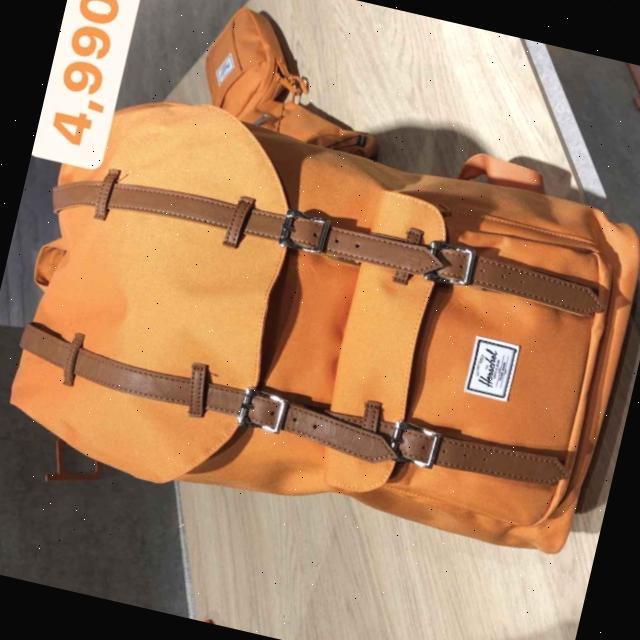Handbag: (0, 79, 640, 585)
